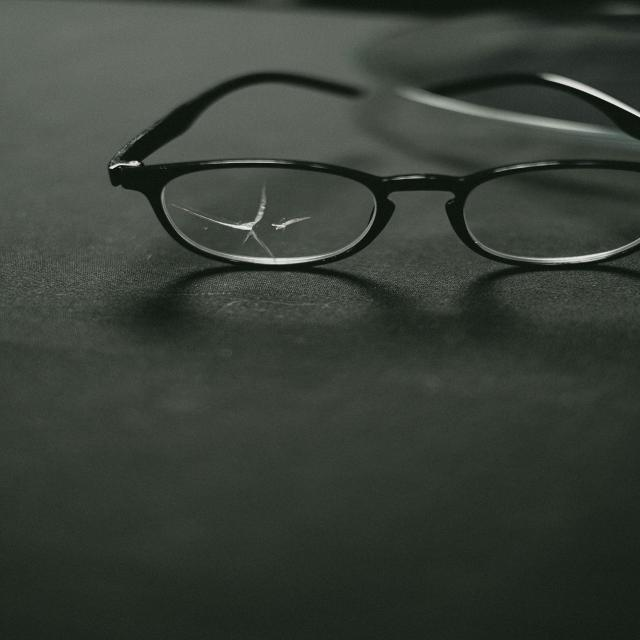oculos: (103, 68, 640, 270)
